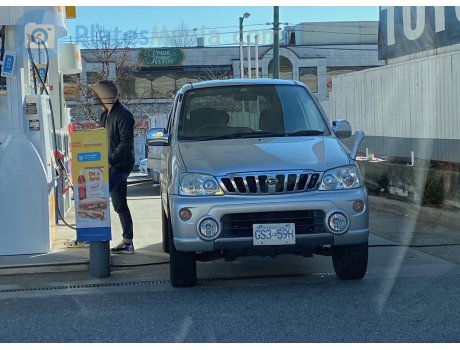licence: (249, 221, 298, 248)
